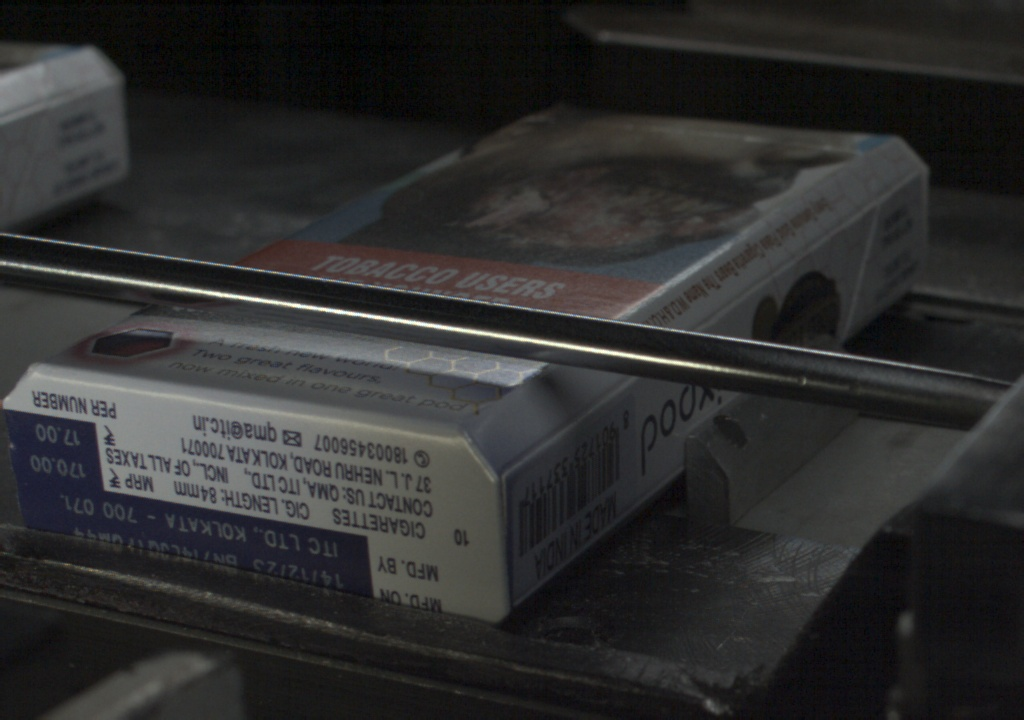g_bottom: (1, 360, 505, 630)
g_label: (21, 489, 378, 604)
g_lmiter: (698, 267, 779, 329), (555, 377, 635, 439), (779, 209, 861, 266), (500, 423, 574, 481)
g_miter: (872, 168, 926, 211)
price: (18, 412, 103, 485)
